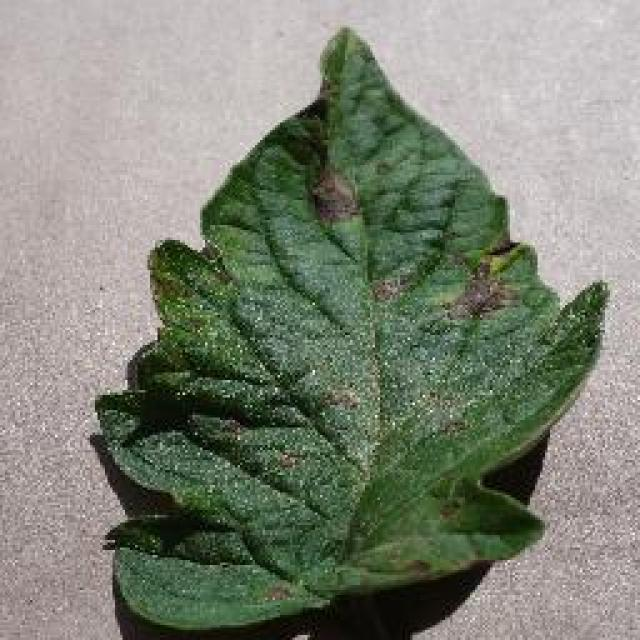leaf blight: (93, 35, 601, 629)
